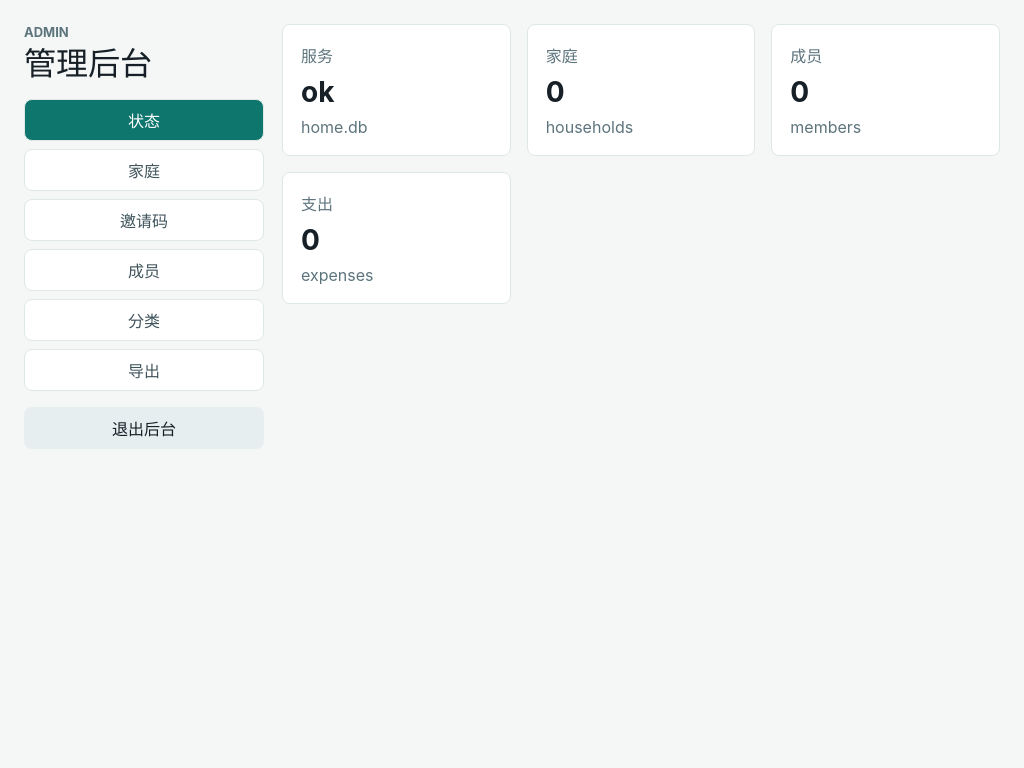
Test case: admin public entry › ignores stale admin household-scope results after logout
Expected: the navigation bar named "后台导航" is shown, [24, 99, 264, 391]
Click the button "家庭" at point(144, 170), box [24, 149, 264, 191]
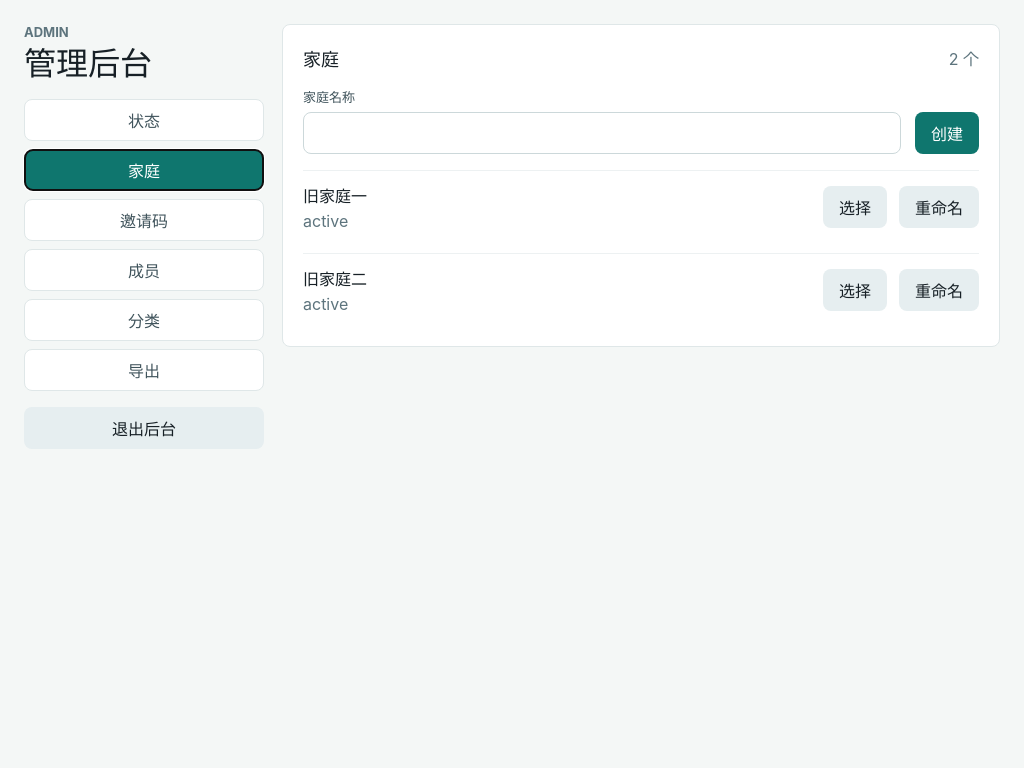
Click the button "选择" in the row of "旧家庭二" at point(855, 290), box [823, 269, 887, 311]
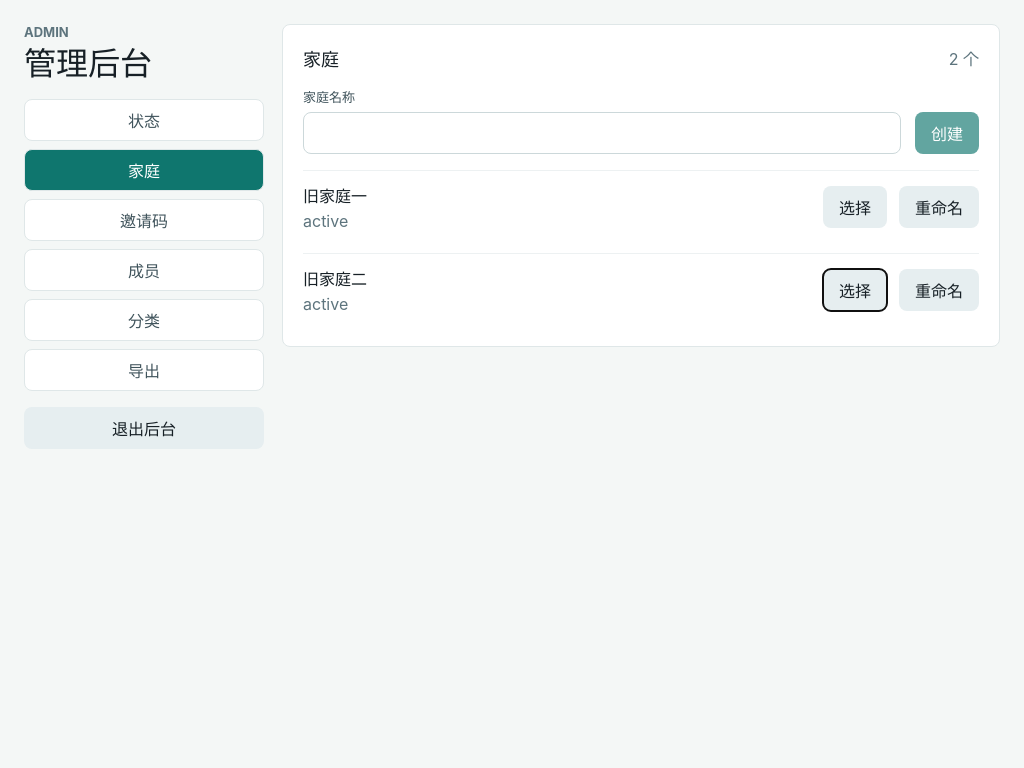
Click the button "退出后台" at point(144, 428), box [24, 407, 264, 449]
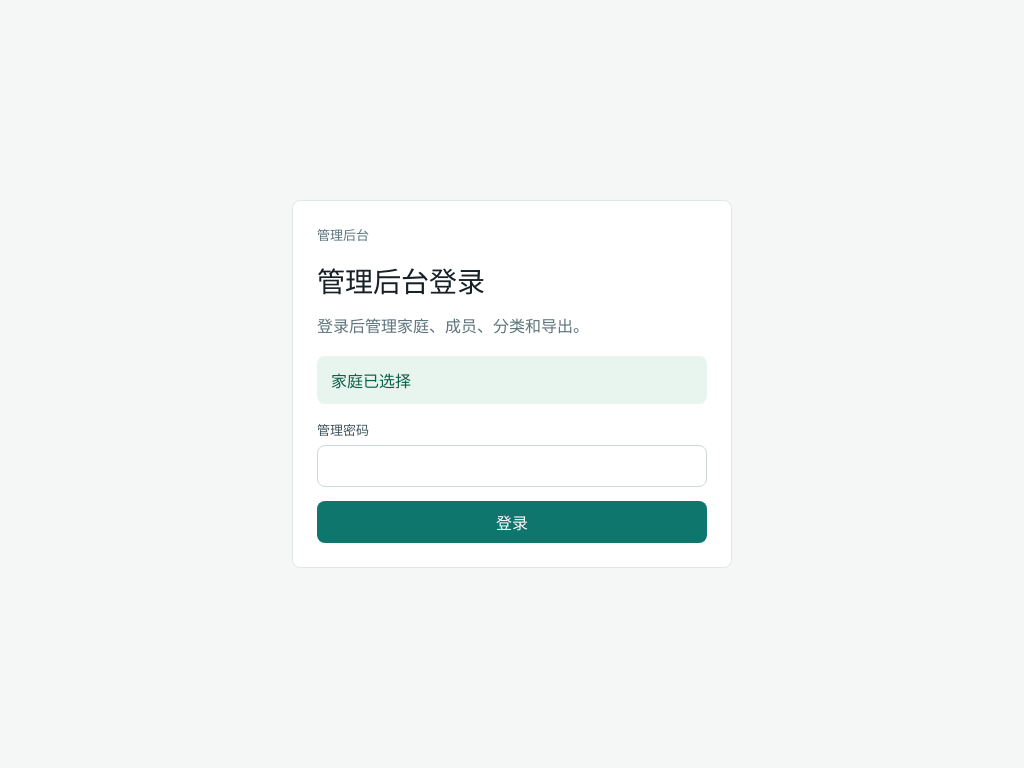
Expected: the heading "管理后台登录" is shown, [317, 265, 485, 299]
